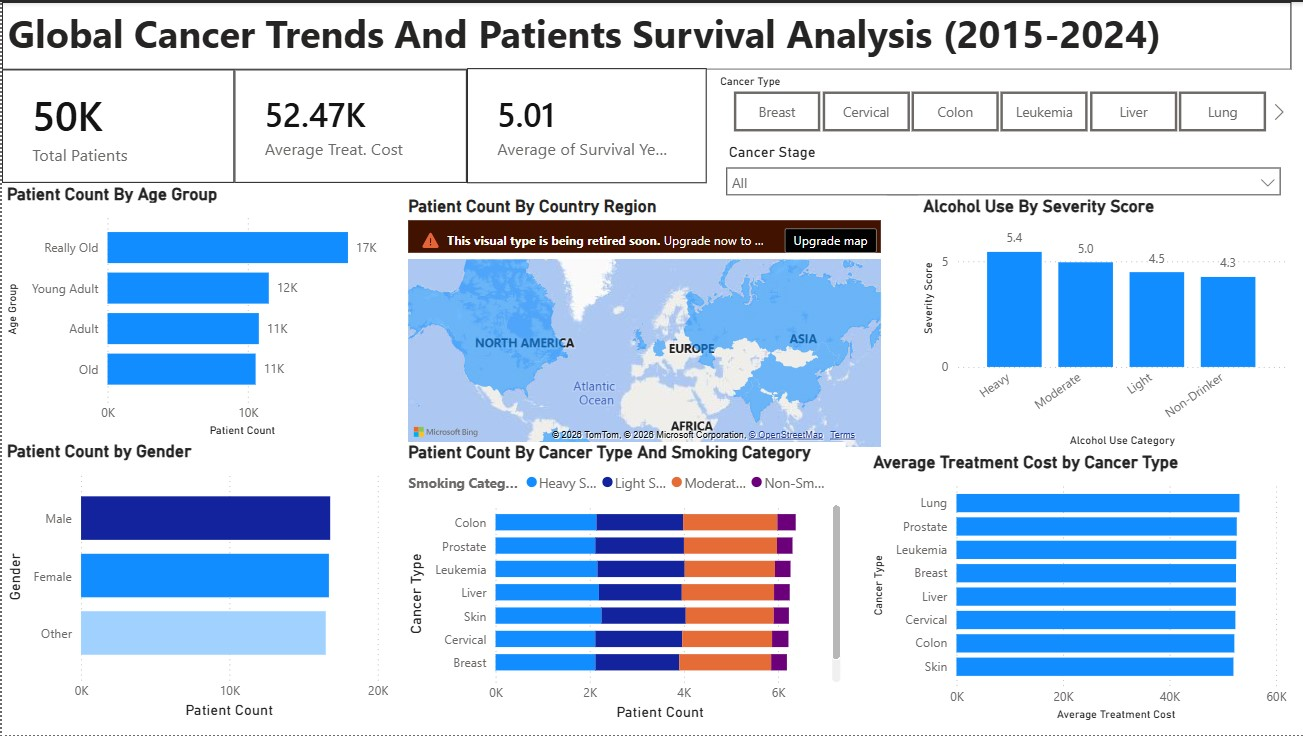

What the dashboard file says about the page in this screenshot:
{"tool":"powerbi","page":{"name":"Page 1","canvas":[1280,720],"ordinal":0},"visuals":[{"type":"cardVisual","fields":{"Data":["Count(global_cancer_patients_2015_202.Patient_ID)"]},"box":[0,66.4,228,111.1],"z":0},{"type":"textbox","box":[0,0,1265.3,66.4],"z":1000},{"type":"cardVisual","fields":{"Data":["Avg(global_cancer_patients_2015_202.Treatment_Cost_USD)"]},"box":[228,66.4,228,111.1],"z":2000},{"type":"cardVisual","fields":{"Data":["Avg(global_cancer_patients_2015_202.Survival_Years)"]},"box":[456.4,65,235.6,112.9],"z":3000},{"type":"slicer","fields":{"Values":["global_cancer_patients_2015_202.Cancer_Type"]},"box":[692.5,66.4,572.8,67.8],"z":4000},{"type":"slicer","fields":{"Values":["global_cancer_patients_2015_202.Cancer_Stage"]},"box":[701.2,134.2,564.1,56.3],"z":5000},{"type":"barChart","title":"Patient Count By Age Group","fields":{"Category":["global_cancer_patients_2015_202.Age_Group"],"Y":["global_cancer_patients_2015_202.Patient_Count"]},"box":[0,177.5,383.8,253.9],"z":6000},{"type":"filledMap","title":"Patient Count By Country Region","fields":{"Category":["global_cancer_patients_2015_202.Country_Region"]},"box":[393.9,190.2,473.6,251.5],"z":7000},{"type":"clusteredColumnChart","title":"Alcohol Use By Severity Score","fields":{"Category":["global_cancer_patients_2015_202.Alcohol_Use_Category"],"Y":["Avg(global_cancer_patients_2015_202.Target_Severity_Score)"]},"box":[898.8,190.4,366.5,251],"z":8000},{"type":"barChart","title":"Patient Count By Cancer Type And Smoking Category","fields":{"Category":["global_cancer_patients_2015_202.Cancer_Type"],"Series":["global_cancer_patients_2015_202.Smoking_Category"],"Y":["global_cancer_patients_2015_202.Patient_Count"]},"box":[393.9,431.4,434.3,278.5],"z":9000},{"type":"barChart","fields":{"Category":["global_cancer_patients_2015_202.Cancer_Type"],"Y":["Avg(global_cancer_patients_2015_202.Treatment_Cost_USD)"]},"box":[849.8,441.5,415.5,268.4],"z":10000},{"type":"clusteredBarChart","title":"Patient Count by Gender","fields":{"Category":["global_cancer_patients_2015_202.Gender"],"Y":["global_cancer_patients_2015_202.Patient_Count"]},"box":[0,431,384,278],"z":11000}]}

Visuals, with their boxes in screenshot pixels (x1, y1, x2, y2), scaled from the page's 1280x720 canvas onto the 1303x736 screenshot:
cardVisual - Count(global_cancer_patients_2015_202.Patient_ID): 0,68,232,181
textbox: 0,0,1288,68
cardVisual - Avg(global_cancer_patients_2015_202.Treatment_Cost_USD): 232,68,464,181
cardVisual - Avg(global_cancer_patients_2015_202.Survival_Years): 465,66,704,182
slicer - global_cancer_patients_2015_202.Cancer_Type: 705,68,1288,137
slicer - global_cancer_patients_2015_202.Cancer_Stage: 714,137,1288,195
"Patient Count By Age Group" barChart: 0,181,391,441
"Patient Count By Country Region" filledMap: 401,194,883,452
"Alcohol Use By Severity Score" clusteredColumnChart: 915,195,1288,451
"Patient Count By Cancer Type And Smoking Category" barChart: 401,441,843,726
barChart - global_cancer_patients_2015_202.Cancer_Type x Avg(global_cancer_patients_2015_202.Treatment_Cost_USD): 865,451,1288,726
"Patient Count by Gender" clusteredBarChart: 0,441,391,725
